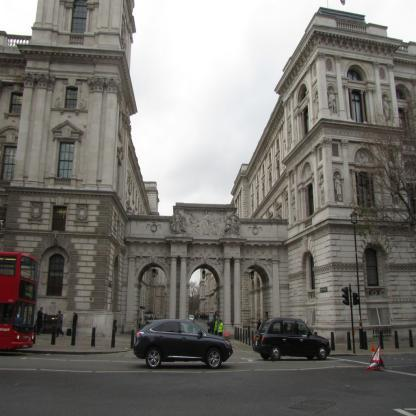car: (131, 318, 228, 373), (254, 316, 330, 361)
